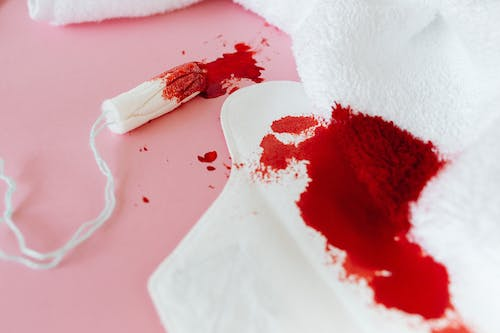blood: (232, 100, 479, 333), (145, 21, 279, 104), (138, 144, 231, 204)
